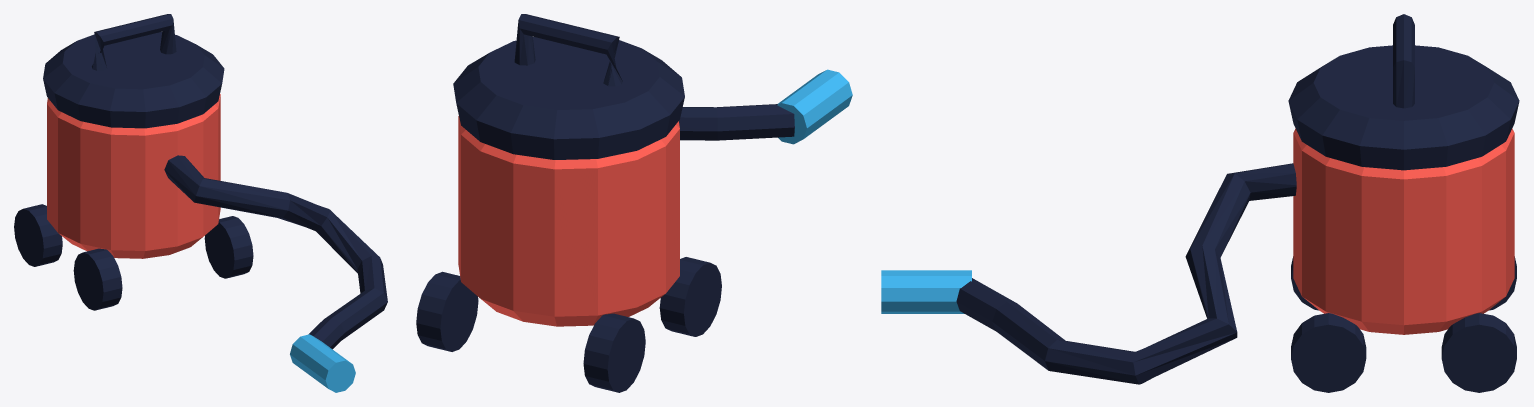
File: T_shop_vac.glb
3 renders of one model, left to right at view 1: azimuth 30°, elevation 25°; view 2: azimuth 150°, elevation 25°; view 3: azimuth 270°, elevation 25°, orthographic. The views are drawn at different scales.
Parts seen in each view (by area): view 1: Canister, Lid, Hose, Casters, Nozzle, TopHandle; view 2: Canister, Lid, Casters, Hose, TopHandle, Nozzle; view 3: Canister, Lid, Hose, Casters, Nozzle, TopHandle.
Part boxes in pixels (left/top/right/bottom): Canister: left=47, top=94, right=220, bottom=258; Lid: left=43, top=32, right=224, bottom=128; Hose: left=164, top=155, right=387, bottom=349; Casters: left=14, top=204, right=253, bottom=310; Nozzle: left=290, top=334, right=355, bottom=392; TopHandle: left=92, top=14, right=176, bottom=70; Canister: left=458, top=116, right=679, bottom=326; Lid: left=453, top=37, right=684, bottom=159; Casters: left=416, top=257, right=721, bottom=392; Hose: left=679, top=104, right=794, bottom=140; TopHandle: left=514, top=14, right=622, bottom=86; Nozzle: left=777, top=69, right=852, bottom=144; Canister: left=1293, top=128, right=1514, bottom=334; Lid: left=1288, top=45, right=1519, bottom=170; Hose: left=956, top=163, right=1296, bottom=384; Casters: left=1291, top=256, right=1516, bottom=392; Nozzle: left=881, top=270, right=971, bottom=313; TopHandle: left=1393, top=14, right=1414, bottom=108.
Bounding box in the file's own units: 0.6447 × 0.6802 × 1.27.
